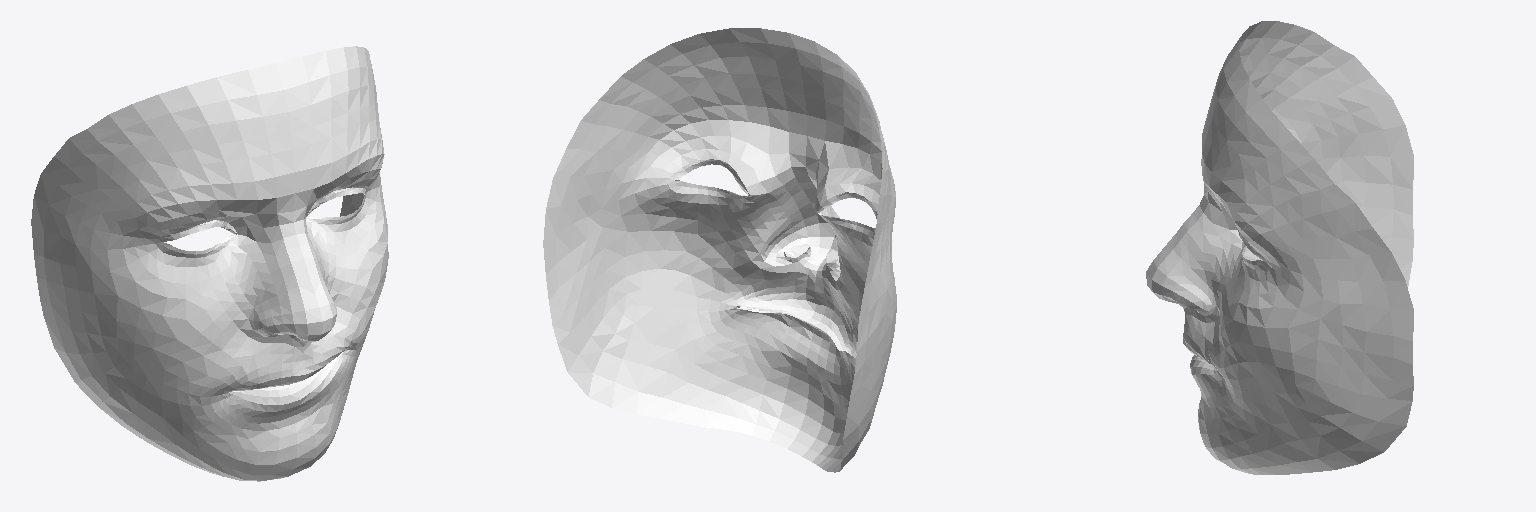
File: mouthPress_L.obj
The picture shows the model from 3 angles: view 1: azimuth 30°, elevation 25°; view 2: azimuth 150°, elevation 25°; view 3: azimuth 270°, elevation 25°; orthographic projection.
Visible parts, largest first — view 1: default; view 2: default; view 3: default.
Part boxes in pixels (left/top/right/bottom): default: left=31, top=46, right=388, bottom=481; default: left=543, top=28, right=896, bottom=472; default: left=1146, top=21, right=1413, bottom=474.
Size of the model in its own units: 0.1447 by 0.1806 by 0.1055.